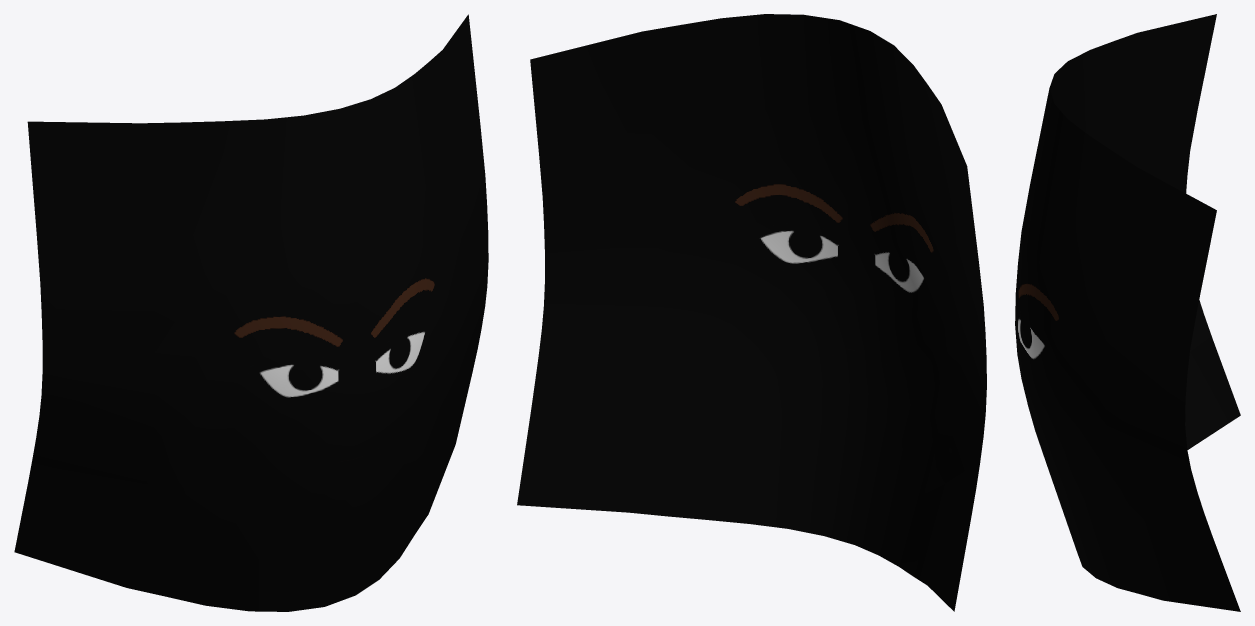
The model's file is Mask_0.glb.
The picture shows the model from 3 angles, left to right: view 1: azimuth 30°, elevation 25°; view 2: azimuth 150°, elevation 25°; view 3: azimuth 270°, elevation 25°; orthographic projection. The views are drawn at different scales.
Parts seen in each view (by area): view 1: Face00; view 2: Face00; view 3: Face00.
Part boxes in pixels (bbox=[...]): Face00: bbox=[14, 14, 488, 611]; Face00: bbox=[517, 14, 986, 611]; Face00: bbox=[1015, 14, 1240, 611].
Size of the model in its own units: 91.85 by 100 by 44.16.
Materials: 1 (1 with a texture image).
